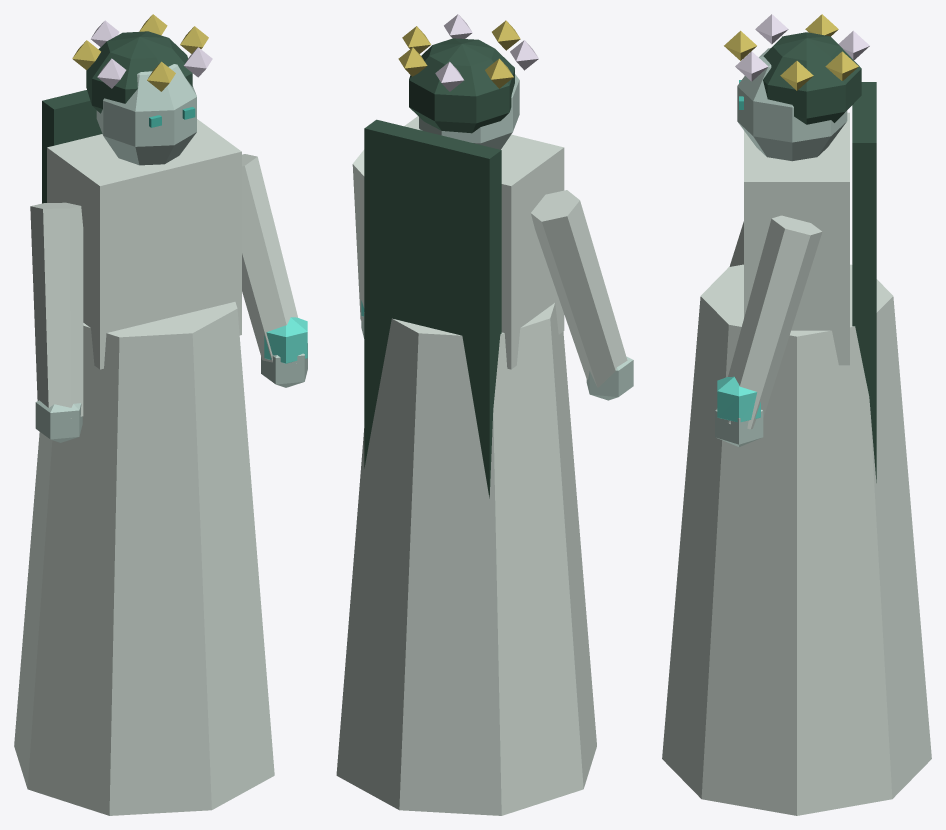
The model's file is rusalka.glb.
3 renders of one model, left to right at view 1: azimuth 30°, elevation 25°; view 2: azimuth 150°, elevation 25°; view 3: azimuth 270°, elevation 25°, orthographic.
Bounding box in the file's own units: 0.6348 × 1.65 × 0.56.
Materials: 1 (1 with a texture image).
